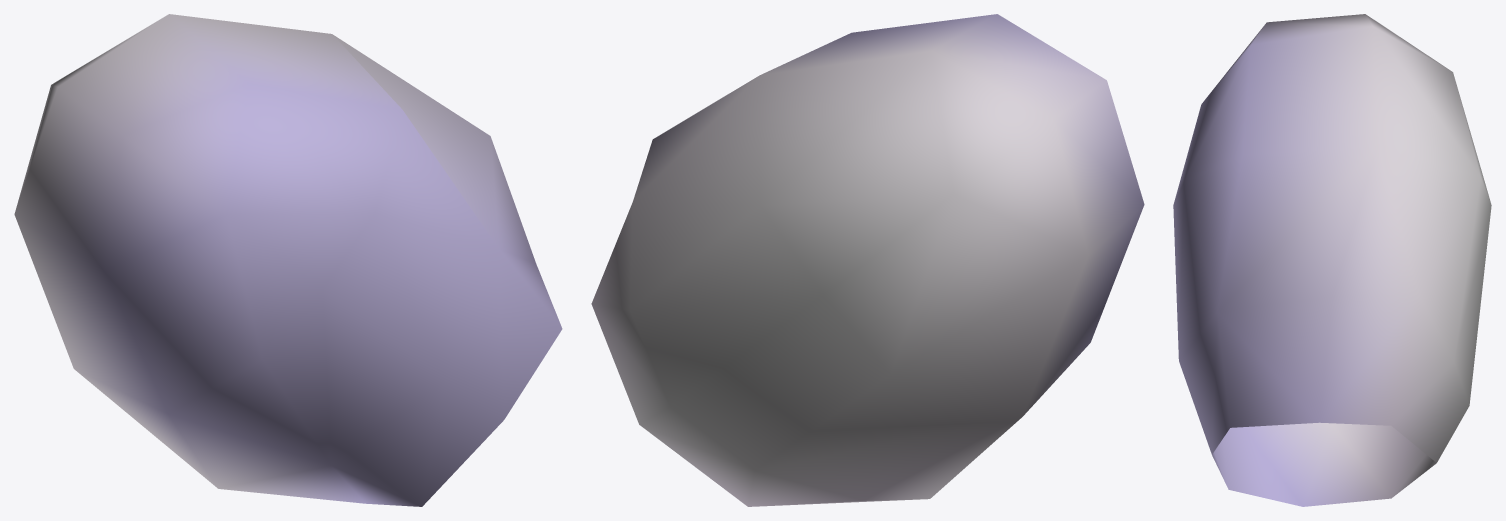
The model's file is HolidaySnowManNose.fbx.
3 renders of one model, left to right at view 1: azimuth 30°, elevation 25°; view 2: azimuth 150°, elevation 25°; view 3: azimuth 270°, elevation 25°, orthographic. The views are drawn at different scales.
Parts seen in each view (by area): view 1: HolidaySnowManNose; view 2: HolidaySnowManNose; view 3: HolidaySnowManNose.
Part boxes in pixels (box(x1,y1,x2,y2)): HolidaySnowManNose: box(14, 14, 562, 506); HolidaySnowManNose: box(591, 14, 1144, 506); HolidaySnowManNose: box(1173, 14, 1491, 506).
Bounding box in the file's own units: 14.46 × 14.01 × 9.69.
